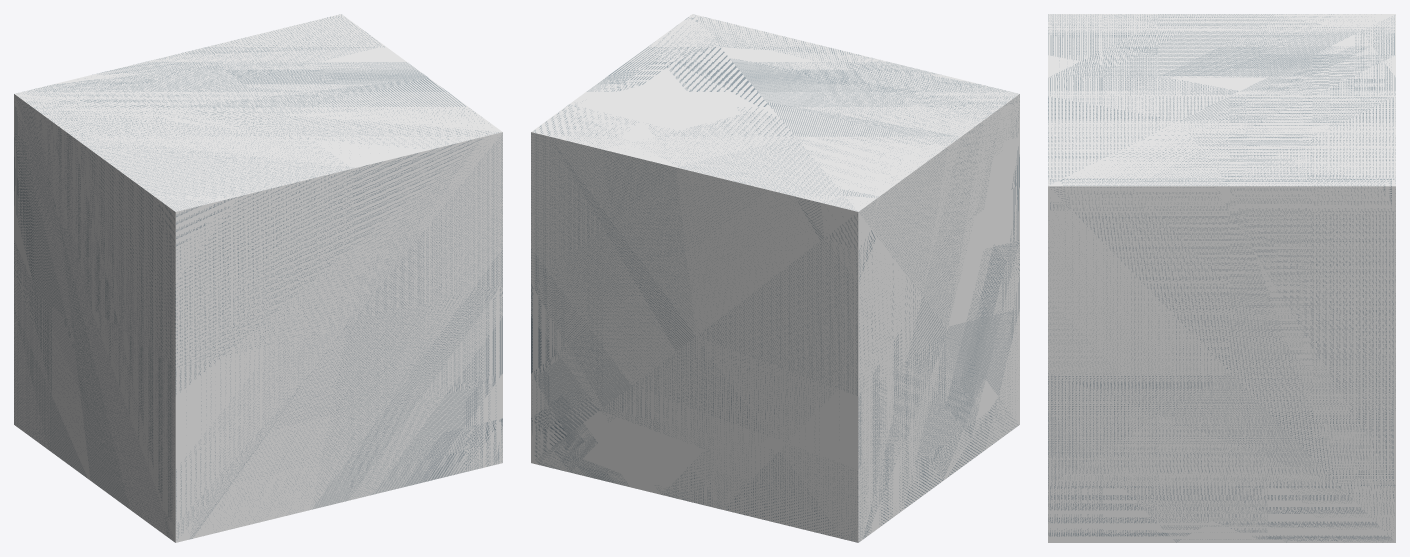
The model's file is TestCube.obj.
The picture shows the model from 3 angles, left to right: view 1: azimuth 30°, elevation 25°; view 2: azimuth 150°, elevation 25°; view 3: azimuth 270°, elevation 25°; orthographic projection. The views are drawn at different scales.
Parts seen in each view (by area): view 1: Mesh1 Model; view 2: Mesh1 Model; view 3: Mesh1 Model.
Boxes of the visible parts, x1,y1,x2,y2 form: Mesh1 Model: (14,14,502,542); Mesh1 Model: (531,14,1019,542); Mesh1 Model: (1048,14,1395,542).
Size of the model in its own units: 0.89 by 0.86 by 0.76.
